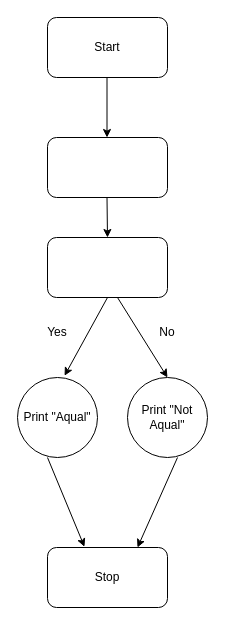
Some shapes in this 225 by 625 pixel diagram are drawn without their labels. The shapes that lost their labels are listed below. From the top down, each one's box as (x1, y1, x2, y2) in pixels, then its label:
(46, 136, 168, 198): Read a Read b Read c
(46, 236, 168, 298): If a = b = c
